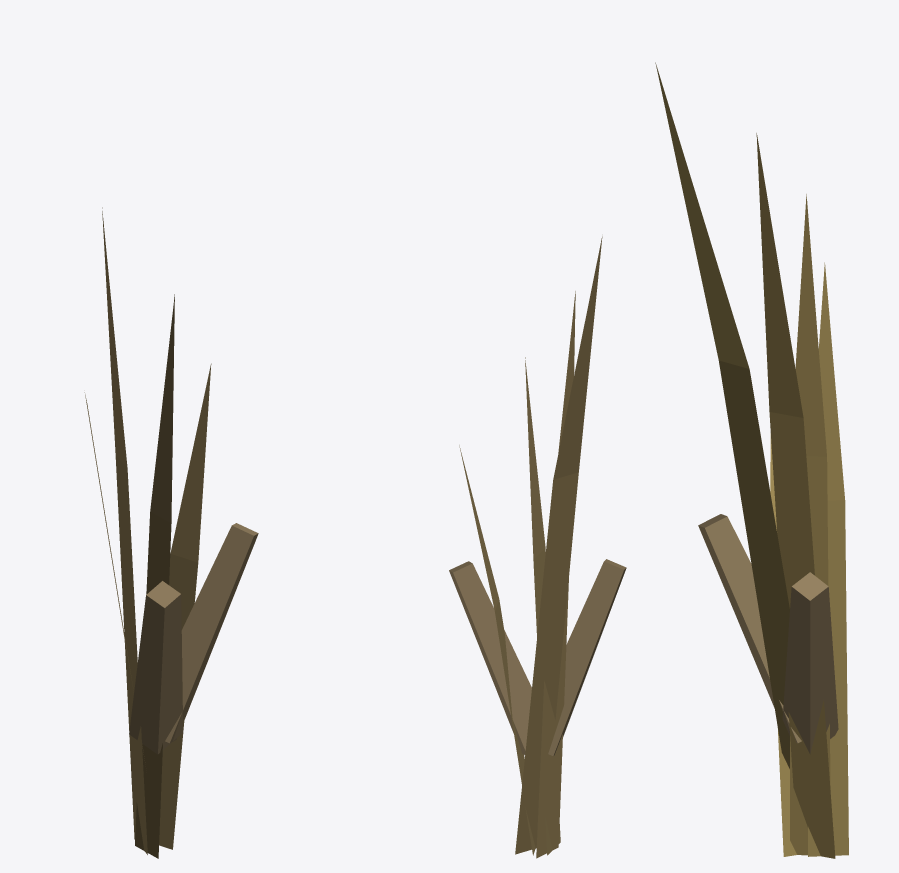
File: shui.changpu@fruiting__autumn.glb
The picture shows the model from 3 angles, left to right: view 1: azimuth 30°, elevation 25°; view 2: azimuth 150°, elevation 25°; view 3: azimuth 270°, elevation 25°; orthographic projection. The views are drawn at different scales.
Visible parts, largest first — view 1: shui.changpu@fruiting__autumn; view 2: shui.changpu@fruiting__autumn; view 3: shui.changpu@fruiting__autumn.
Boxes of the visible parts, x1,y1,x2,y2 form: shui.changpu@fruiting__autumn: (84,207,258,858); shui.changpu@fruiting__autumn: (449,236,626,858); shui.changpu@fruiting__autumn: (655,62,848,858).
Bounding box in the file's own units: 0.5859 × 1.62 × 0.3823.
